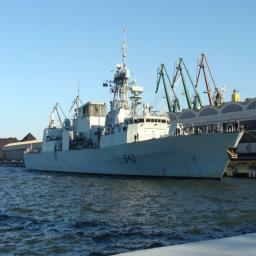Fragata: (23, 24, 249, 184)
